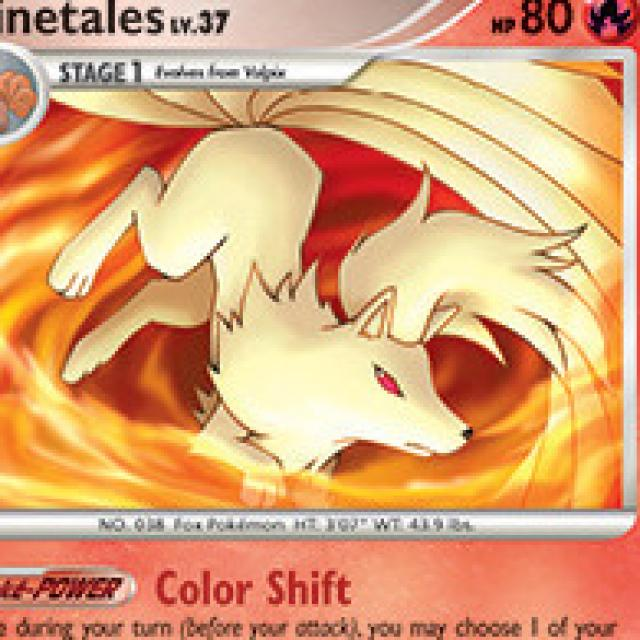Ninetales: (66, 88, 594, 461)
